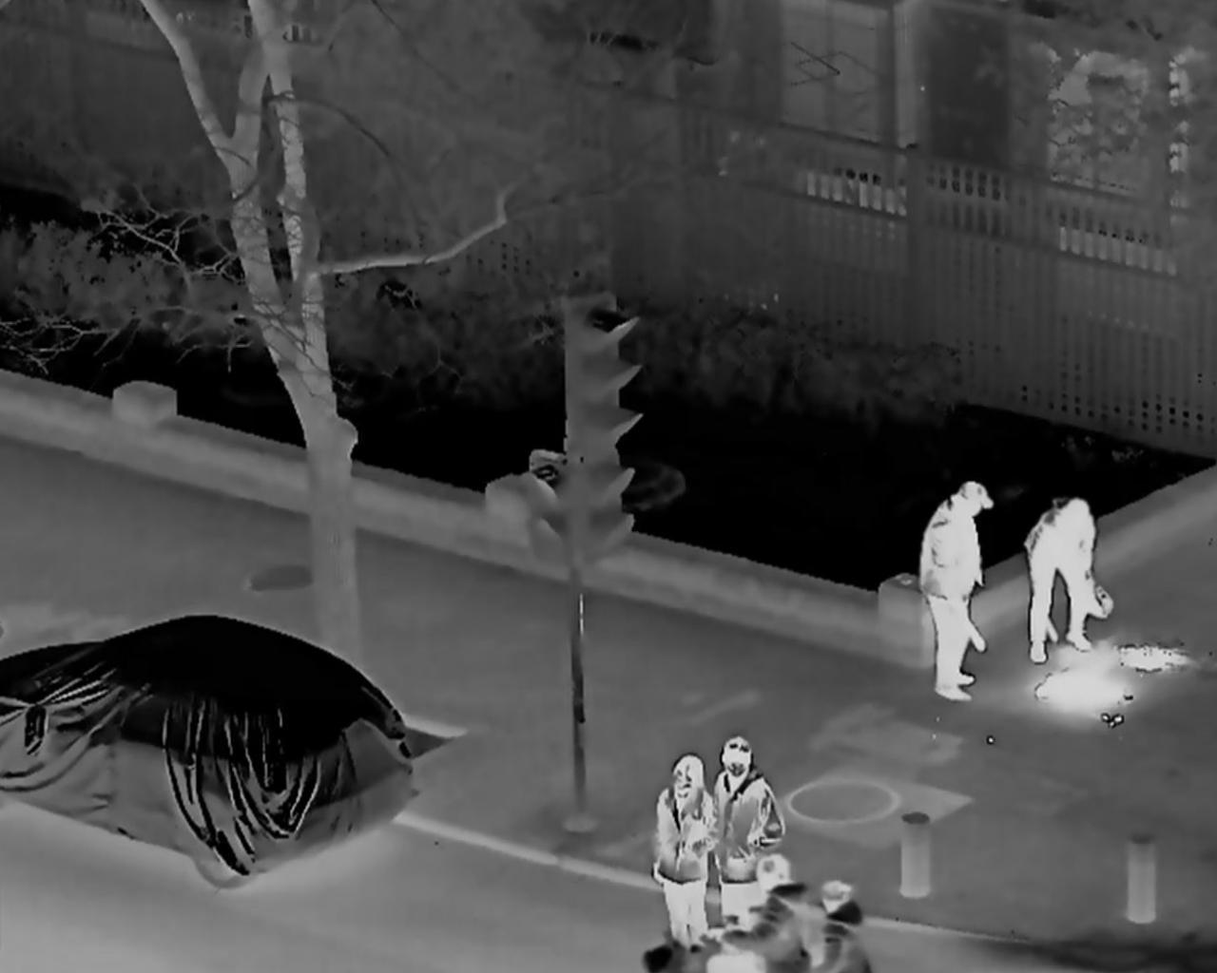person: (912, 483, 999, 704), (1025, 498, 1108, 667), (651, 754, 716, 954), (707, 741, 774, 929), (712, 865, 815, 973), (812, 882, 869, 973)
